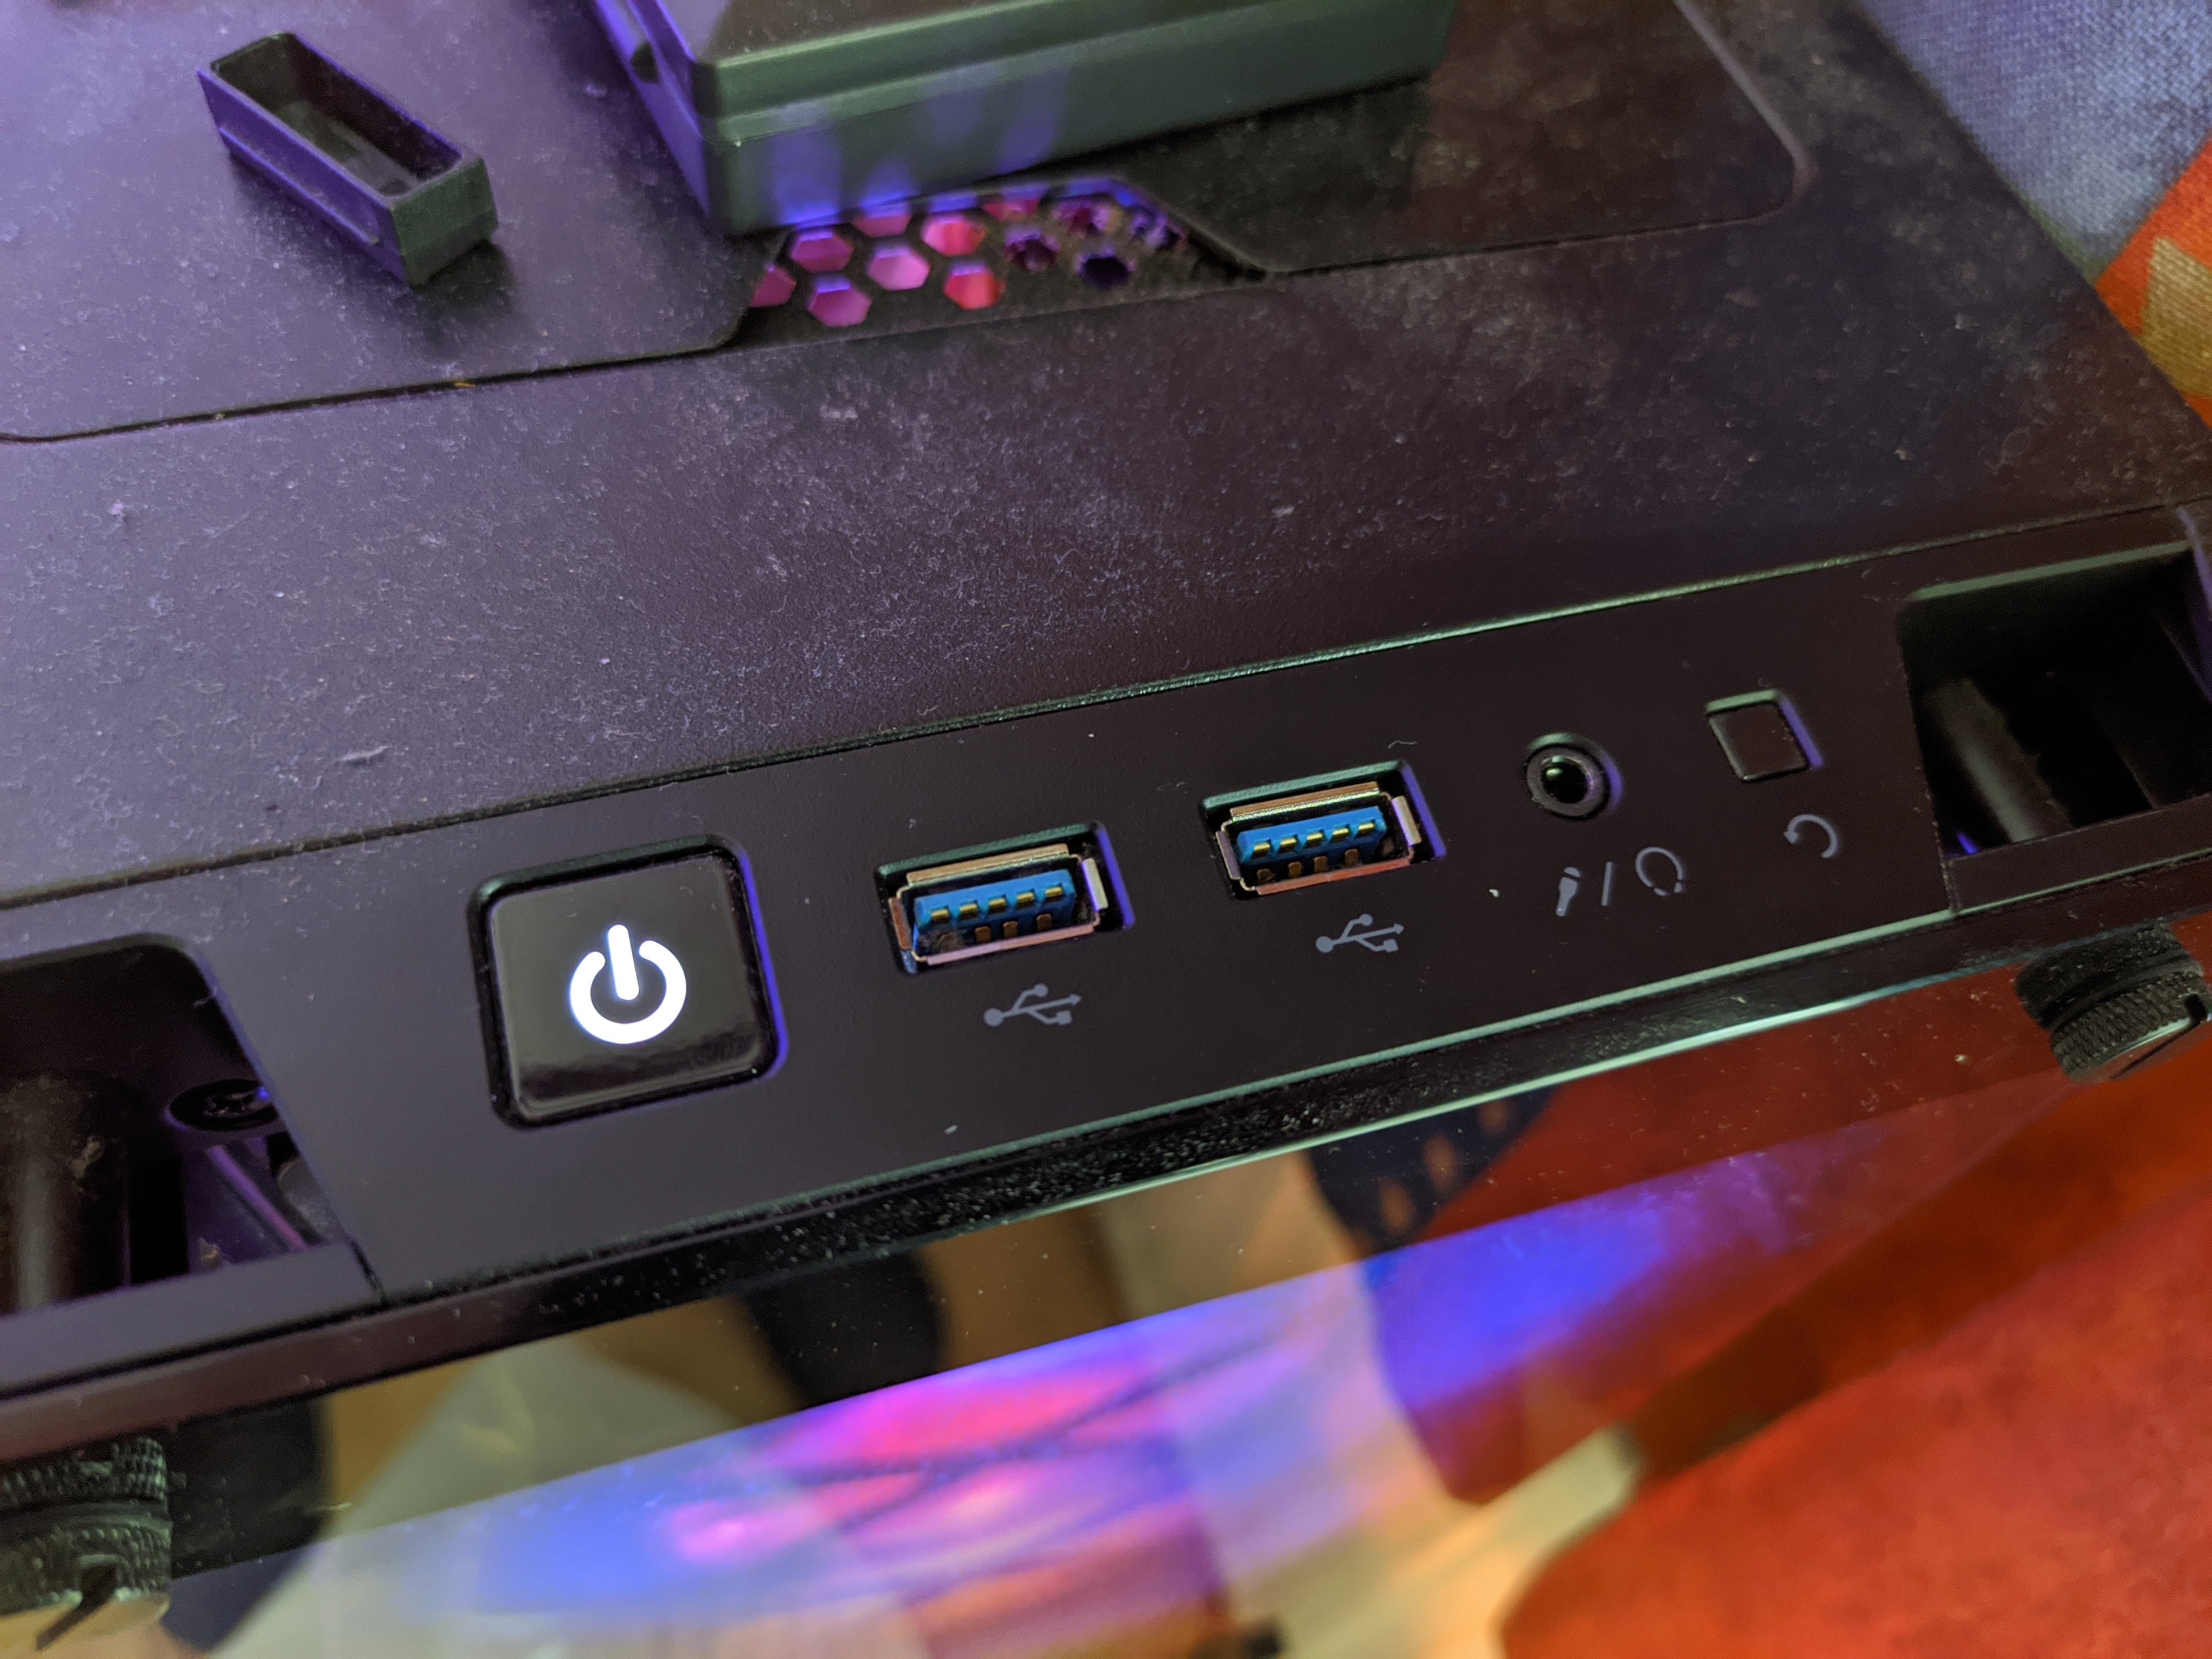usbport_in: (880, 828, 1120, 981), (1197, 756, 1439, 904)
